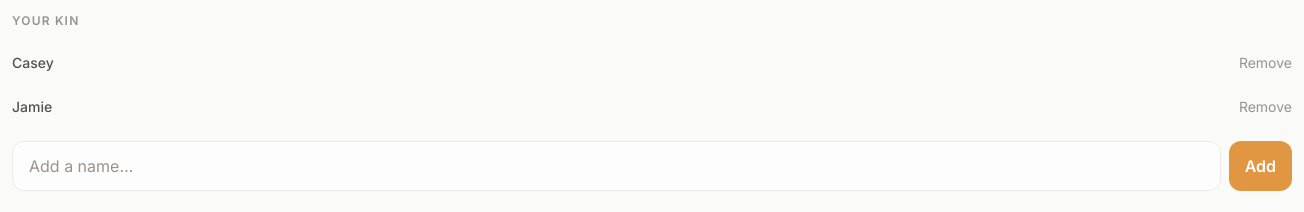
Test case: KinList › delete › removes the kin after confirming
// when — click Remove on Casey's row, then confirm within the same row
Click the 1st button "Remove" at (1265, 63), box [1239, 45, 1292, 81]
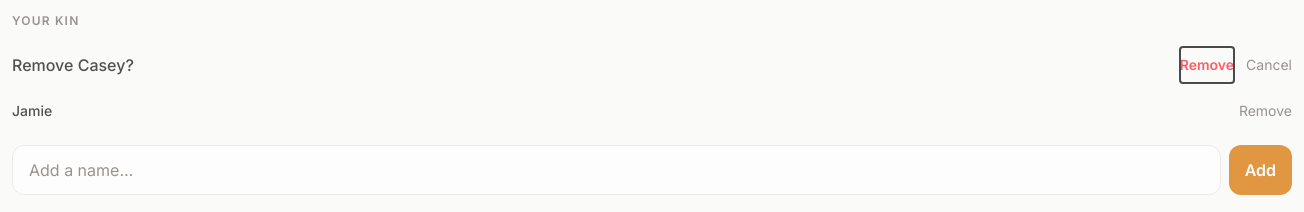
Click the button "Remove" in the row of "Casey" at (1207, 65), box [1180, 47, 1234, 83]
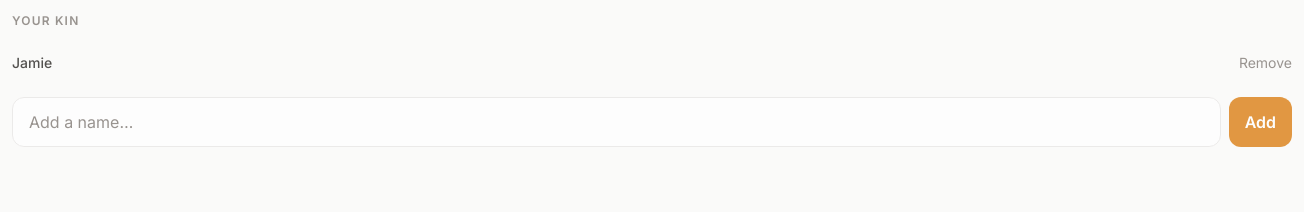
Expected: the button "Jamie" is shown, [12, 47, 1227, 79]
Expected: the text "Casey" is gone
